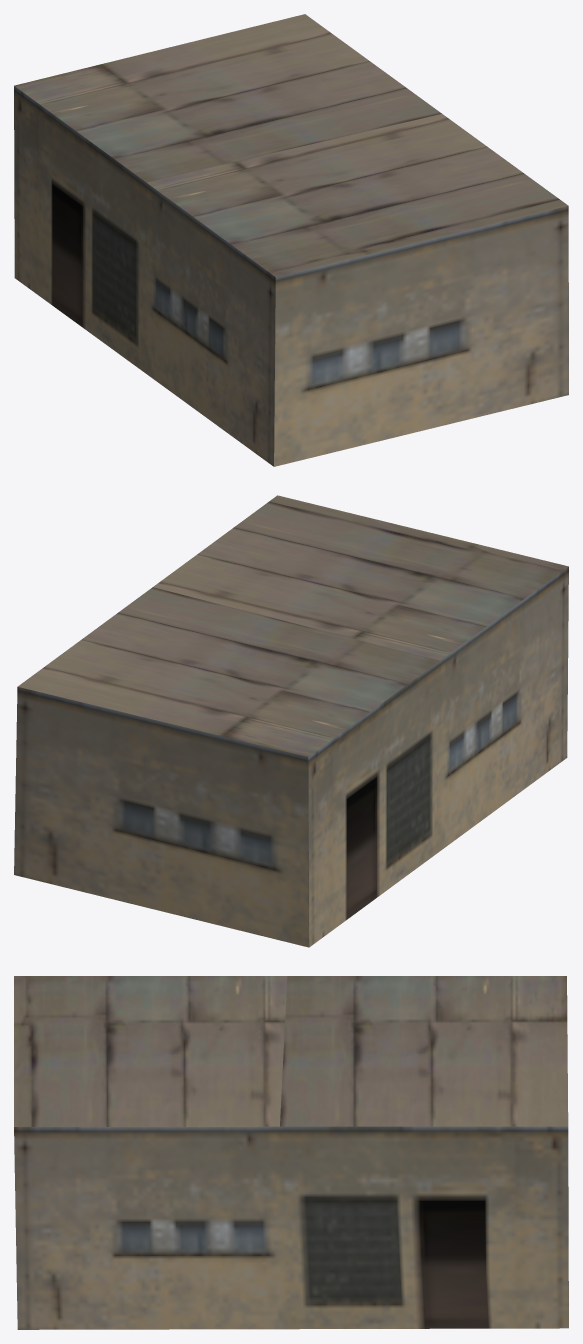
File: barrack03_elements_0.glb
3 views of the same model, one above another, from view 1: azimuth 30°, elevation 25°; view 2: azimuth 150°, elevation 25°; view 3: azimuth 270°, elevation 25° (orthographic). The views are drawn at different scales.
Visible parts, largest first — view 1: barrack03_elements_0.003; view 2: barrack03_elements_0.003; view 3: barrack03_elements_0.003.
Boxes of the visible parts, x1,y1,x2,y2 form: barrack03_elements_0.003: [14, 14, 568, 466]; barrack03_elements_0.003: [14, 495, 568, 947]; barrack03_elements_0.003: [14, 976, 568, 1329].
Size of the model in its own units: 3.71 by 2.31 by 5.73.
Materials: 1 (1 with a texture image).
